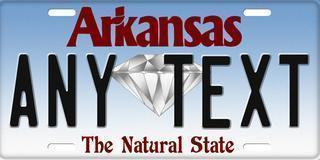placa de veiculo: (6, 1, 315, 154)
